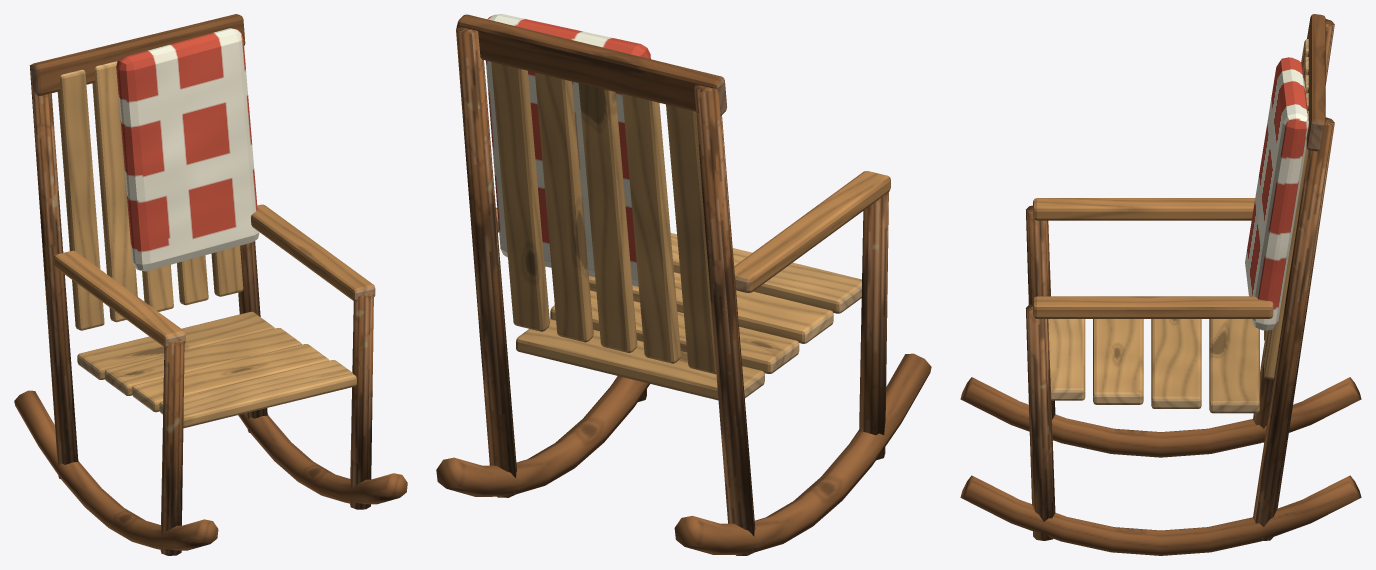
The model's file is rocking_chair.glb.
3 views of the same model, side by side, from view 1: azimuth 30°, elevation 25°; view 2: azimuth 150°, elevation 25°; view 3: azimuth 270°, elevation 25° (orthographic). The views are drawn at different scales.
Visible parts, largest first — view 1: RockingChair; view 2: RockingChair; view 3: RockingChair.
Part boxes in pixels (x1,y1,x2,y2): RockingChair: [14, 14, 407, 555]; RockingChair: [436, 14, 931, 555]; RockingChair: [960, 14, 1361, 555].
Size of the model in its own units: 0.67 by 1.25 by 1.03.
Materials: 1 (1 with a texture image).
